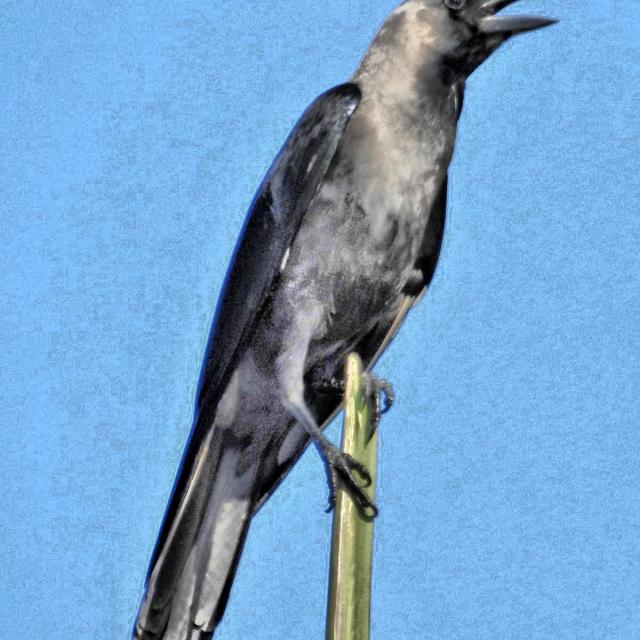crow: (172, 1, 610, 640)
